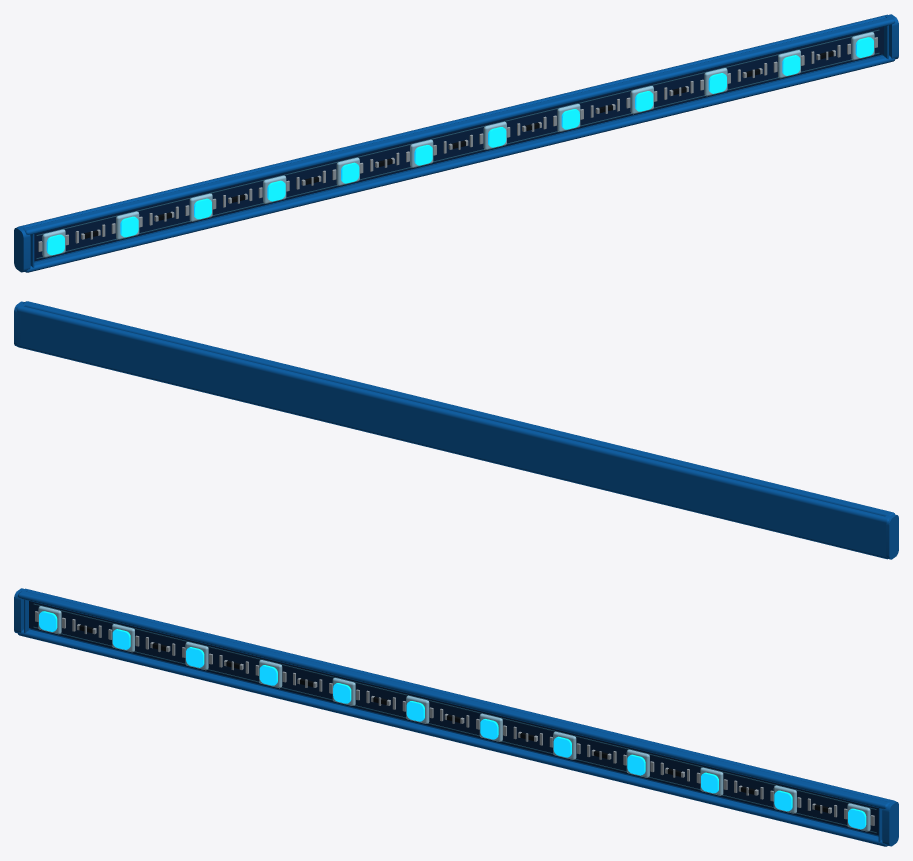
3 views of the same model, one above another, from view 1: azimuth 30°, elevation 25°; view 2: azimuth 150°, elevation 25°; view 3: azimuth 330°, elevation 25° (orthographic).
Visible parts, largest first — view 1: Continuous circuit board_export, Upper casing rail_export, Lower casing rail_export, Continuous protective backing_export, Circuit conductor.001_export, Circuit conductor_export, Rounded end cap_export; view 2: Continuous protective backing_export, Upper casing rail_export, Rounded end cap_export; view 3: Continuous circuit board_export, Upper casing rail_export, Lower casing rail_export, Continuous protective backing_export, Circuit conductor.001_export, Circuit conductor_export, Rounded end cap.001_export.
Part boxes in pixels (box(x1,y1,x2,y2)): Continuous circuit board_export: box(34, 27, 883, 261); Upper casing rail_export: box(23, 17, 895, 234); Lower casing rail_export: box(25, 55, 895, 272); Continuous protective backing_export: box(16, 14, 888, 262); Circuit conductor.001_export: box(36, 29, 879, 235); Circuit conductor_export: box(36, 53, 879, 259); Rounded end cap_export: box(14, 226, 30, 272); Continuous protective backing_export: box(16, 305, 891, 559); Upper casing rail_export: box(23, 301, 894, 516); Rounded end cap_export: box(885, 514, 898, 559); Continuous circuit board_export: box(29, 601, 878, 835); Upper casing rail_export: box(17, 591, 889, 808); Lower casing rail_export: box(17, 629, 887, 846); Continuous protective backing_export: box(24, 588, 896, 838); Circuit conductor.001_export: box(33, 603, 876, 809); Circuit conductor_export: box(33, 627, 876, 833); Rounded end cap.001_export: box(882, 800, 898, 846).
Size of the model in its own units: 1 by 0.0464 by 0.019.
